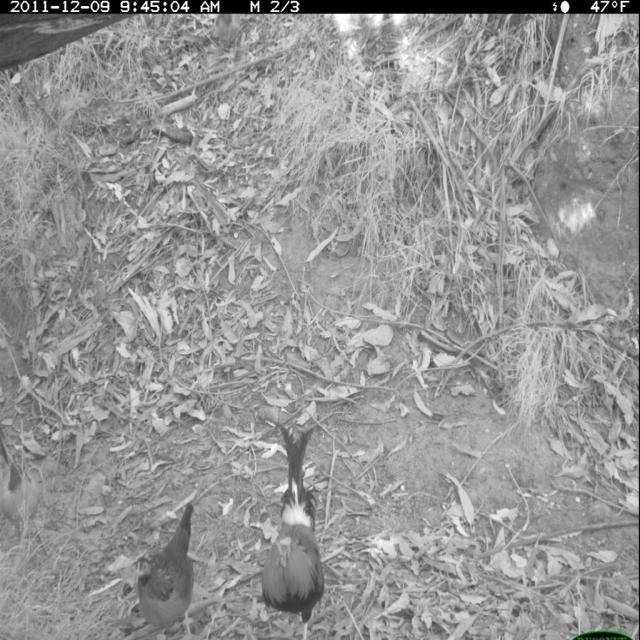bird: (261, 419, 331, 640), (126, 495, 208, 628)
